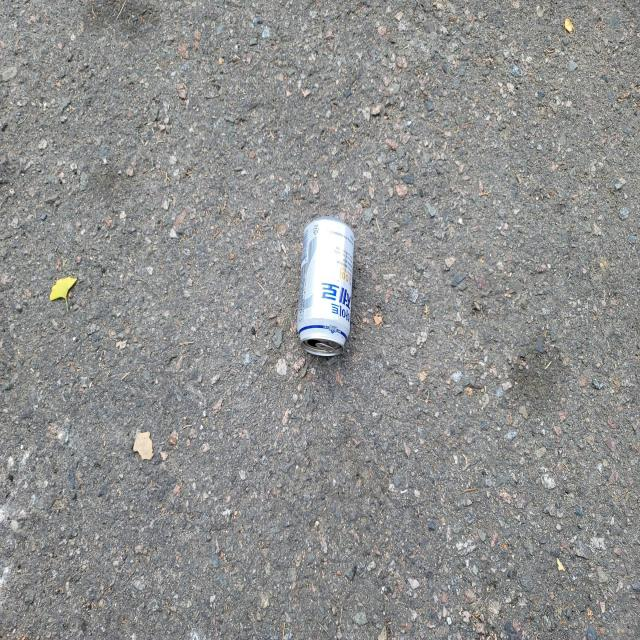can: (297, 216, 355, 356)
